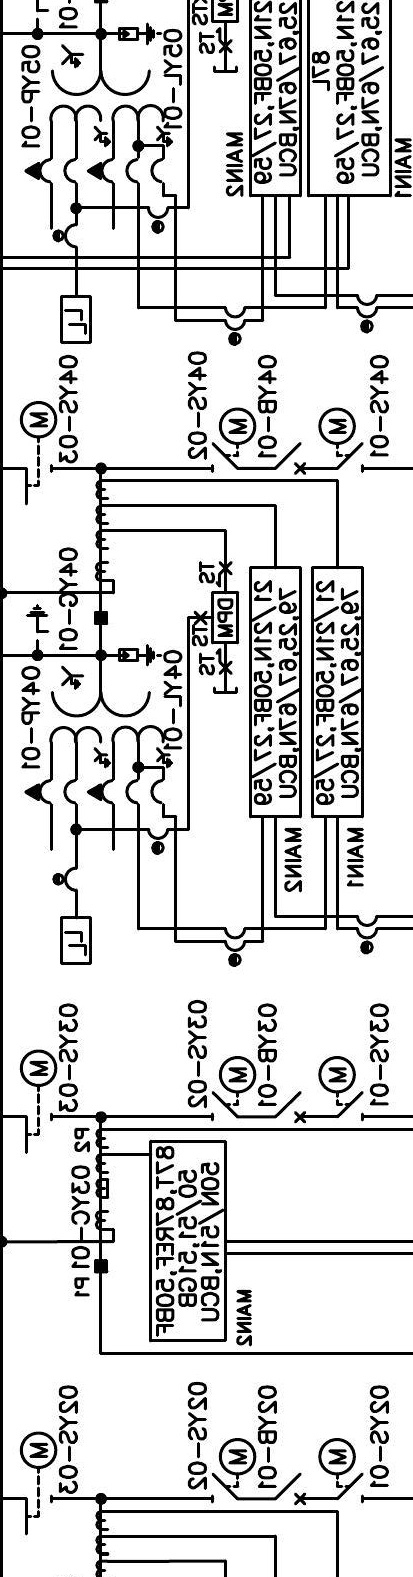115_1way_ds_w_motor: (19, 1048, 58, 1155), (20, 399, 59, 506), (20, 1429, 58, 1537), (318, 1055, 365, 1122), (210, 406, 257, 474), (318, 406, 365, 474), (210, 1436, 257, 1504), (318, 1436, 365, 1504), (211, 1055, 257, 1122)
115_breaker: (275, 1090, 307, 1124), (274, 1472, 306, 1506), (275, 442, 306, 476)
115_gs: (25, 602, 50, 644)
115_la: (118, 21, 163, 46), (118, 643, 163, 667)
115_vt_3p: (23, 43, 174, 184), (23, 665, 174, 806)
DPM: (211, 590, 239, 644)
LL: (59, 294, 92, 344), (59, 915, 92, 966)
